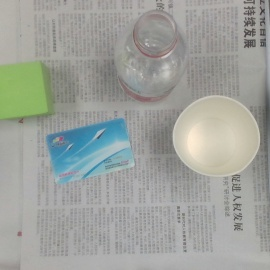bottle: (115, 11, 187, 112)
card: (45, 117, 138, 184)
cup: (173, 96, 260, 178)
